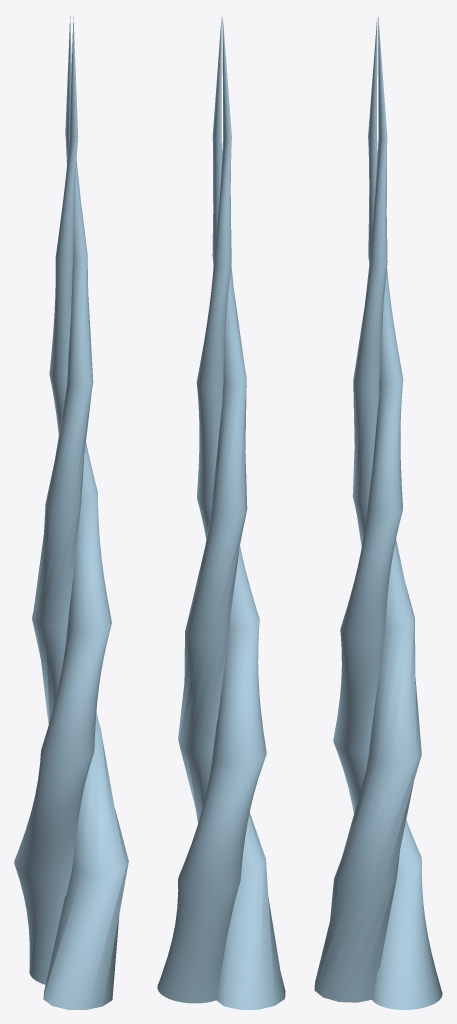
File: horn.fbx
The picture shows the model from 3 angles, left to right: view 1: azimuth 90°, elevation 25°; view 2: azimuth 150°, elevation 25°; view 3: azimuth 330°, elevation 25°; orthographic projection.
Visible parts, largest first — view 1: Cone_2; view 2: Cone_2; view 3: Cone_2.
Boxes of the visible parts, x1,y1,x2,y2 form: Cone_2: (14, 15, 128, 1009); Cone_2: (157, 16, 285, 1009); Cone_2: (314, 16, 442, 1009).
Bounding box in the file's own units: 180 × 1501 × 161.
